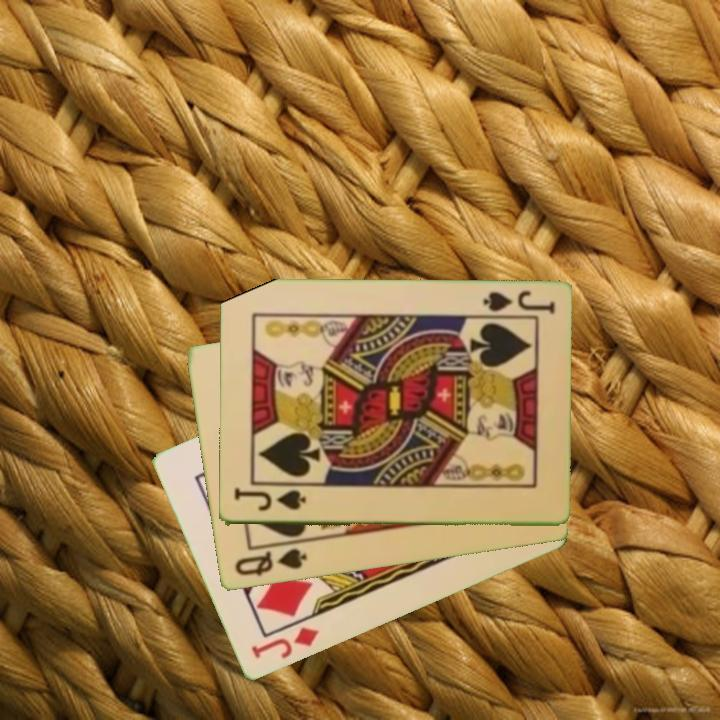Jd: (247, 623, 322, 663)
Js: (479, 288, 557, 317), (230, 488, 309, 514)
Qs: (231, 545, 310, 579)
